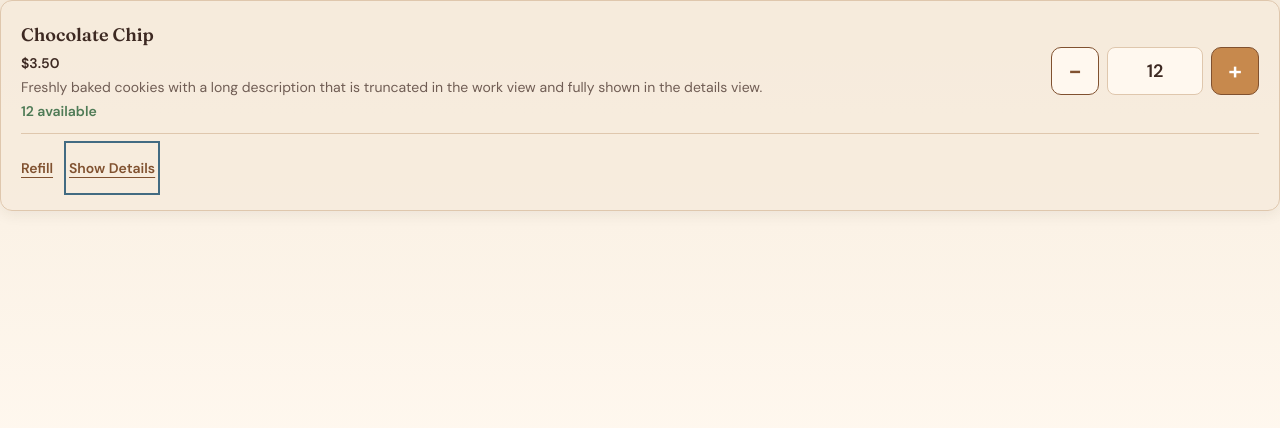
Test: Menu Management work and details views › expands with the keyboard and reveals the photo, full details, Edit, and Archive
The image size is (1280, 428).
Press Enter
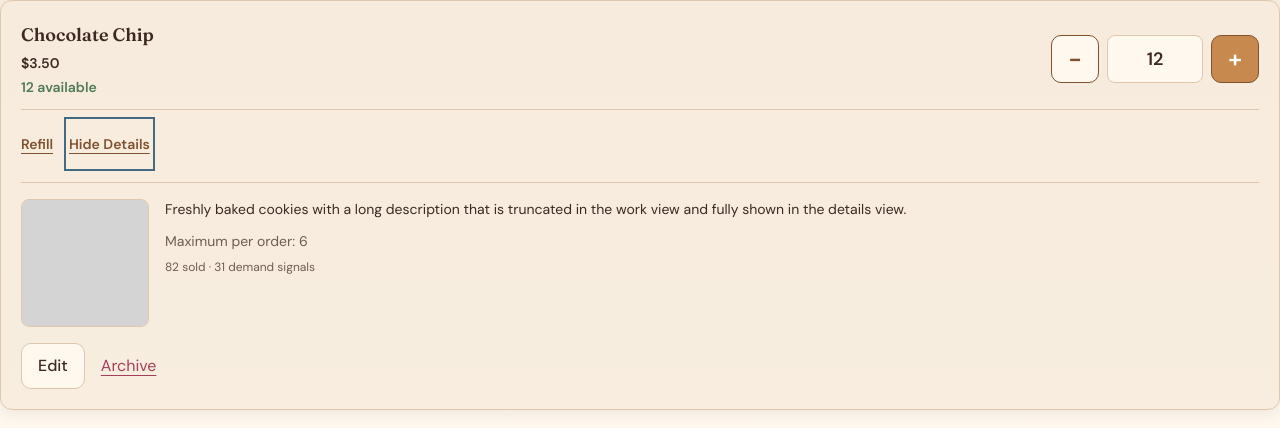
Expected: the button named "Show details for Chocolate Chip" is expanded, [69, 122, 150, 166]
Expected: the text "Maximum per order: 6" is shown, [165, 232, 308, 250]
Expected: the text "82 sold · 31 demand signals" is shown, [165, 259, 315, 275]
Click the button "Edit" at (53, 366), box [21, 343, 85, 389]
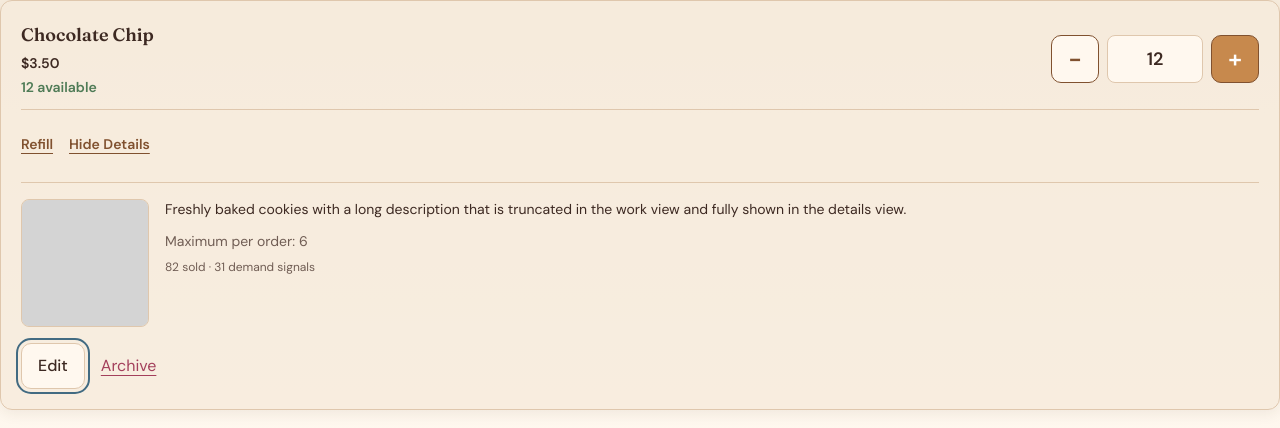
Click the button "Archive" at (129, 366), box [101, 344, 156, 388]
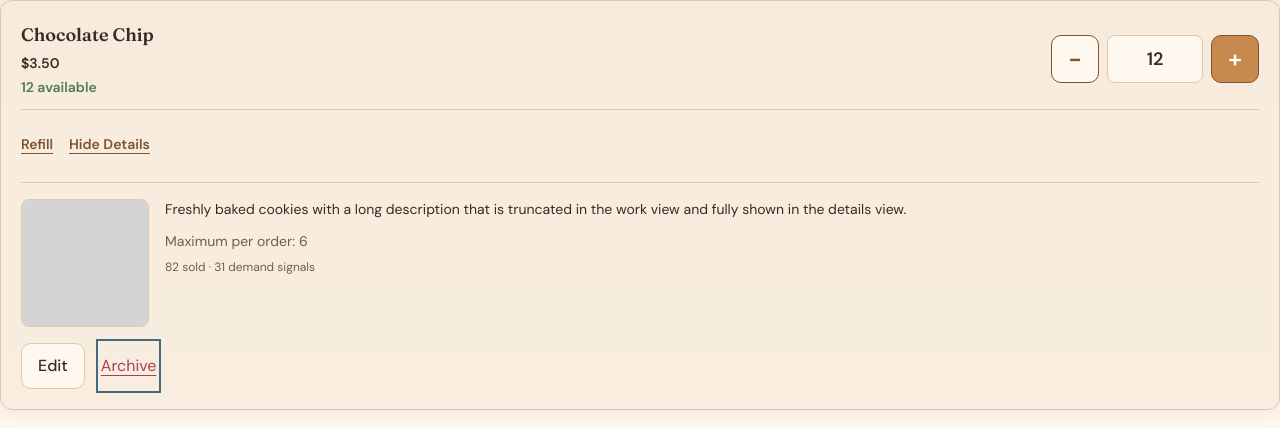
Click the button with aria-label "Hide details for Chocolate Chip" at (109, 144), box [69, 122, 150, 166]
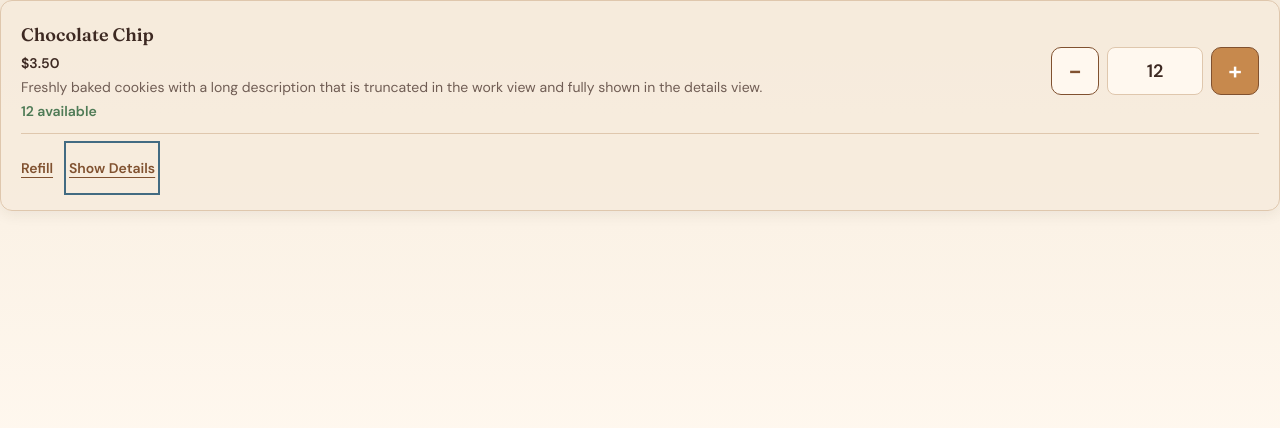
Expected: the field named "Chocolate Chip quantity" is shown, [1107, 47, 1203, 95]
Expected: the picture is gone
